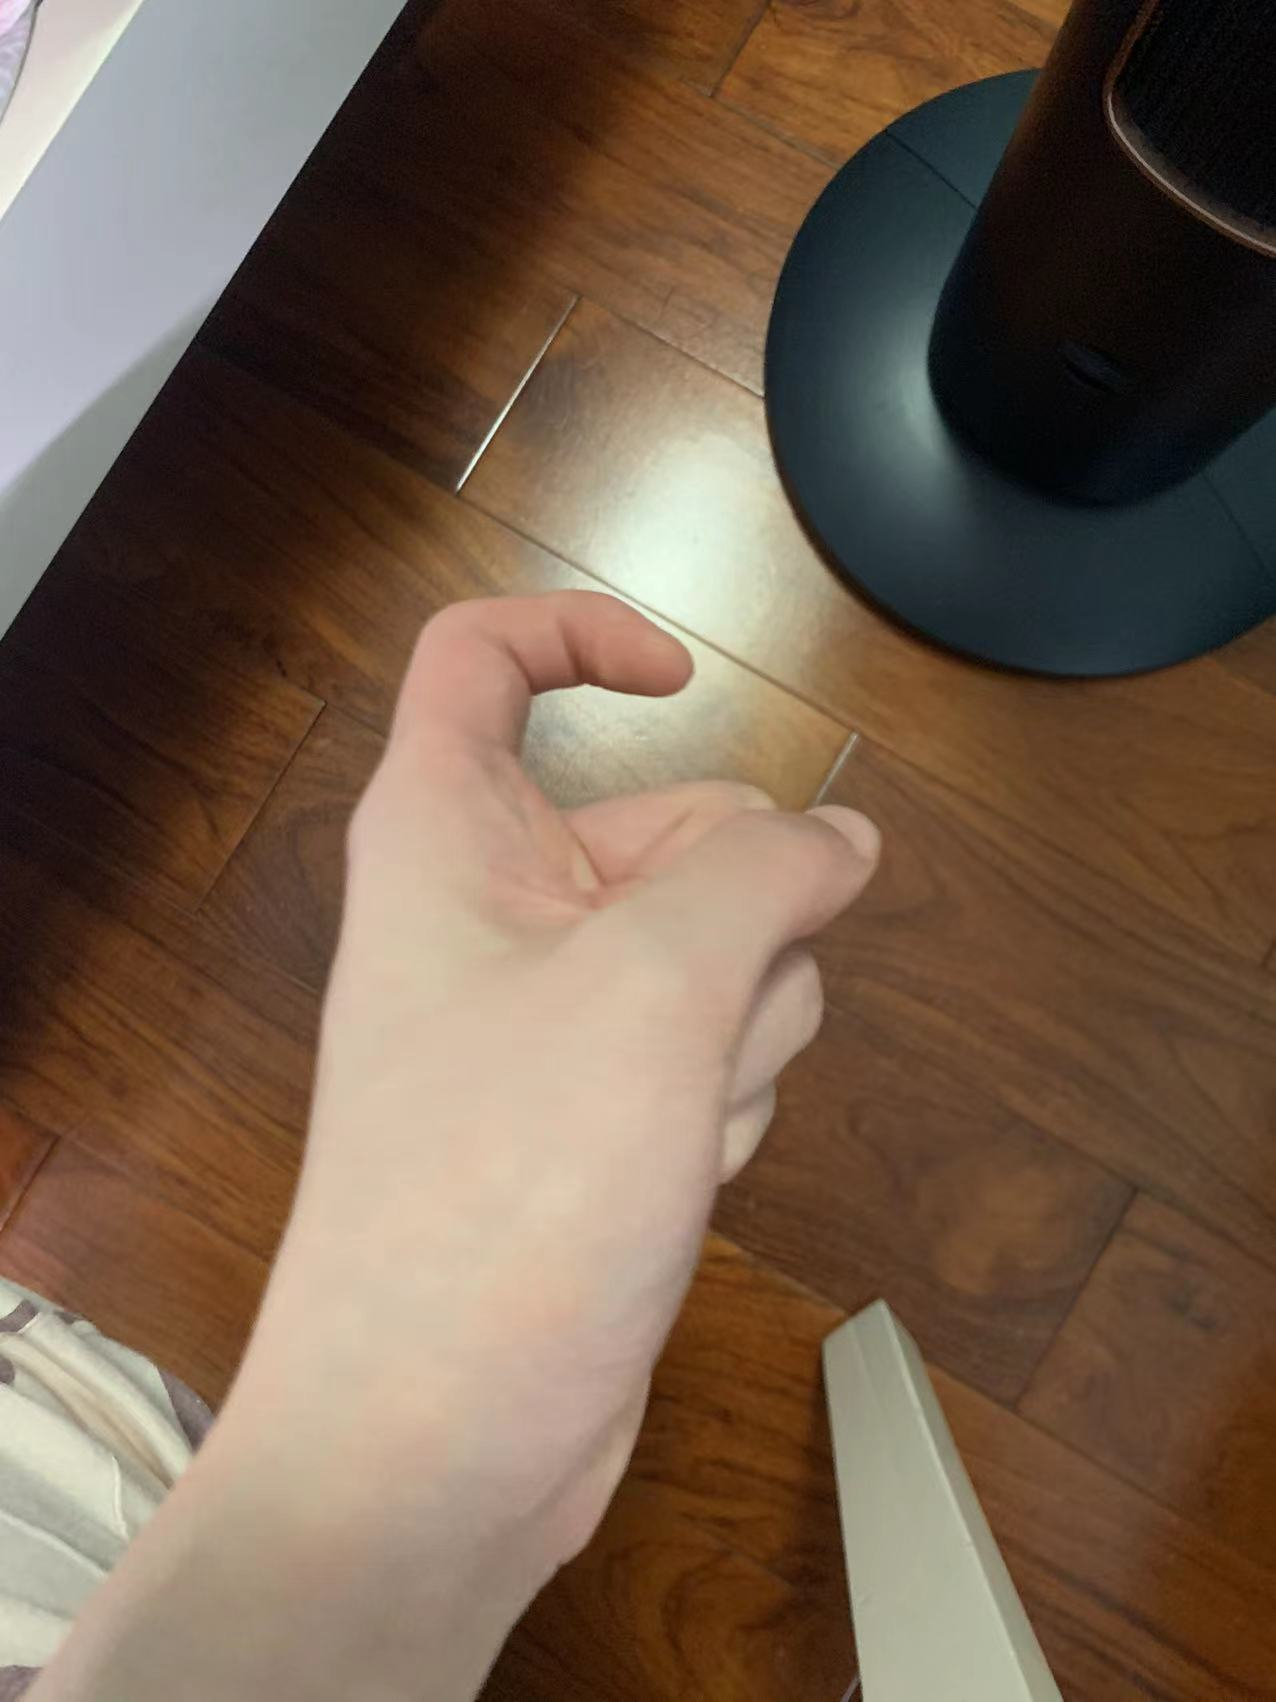anticlockwise: (239, 587, 878, 1425)
